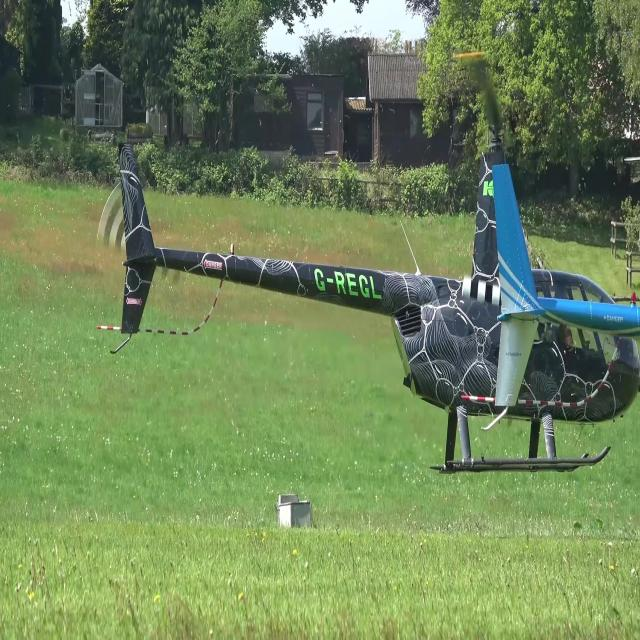CIV_HELO: (115, 114, 640, 478)
